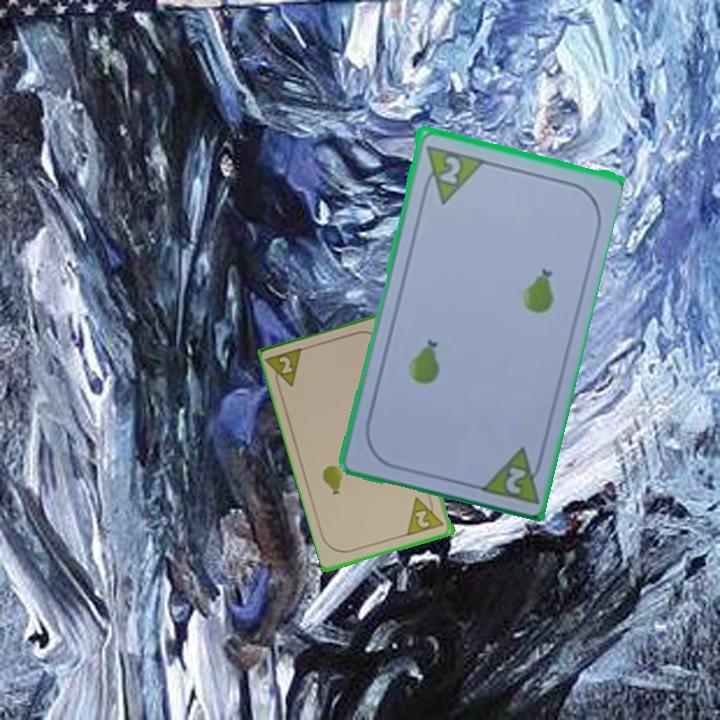2p: (474, 441, 547, 507), (417, 141, 485, 206), (264, 344, 308, 394), (404, 490, 447, 539)
